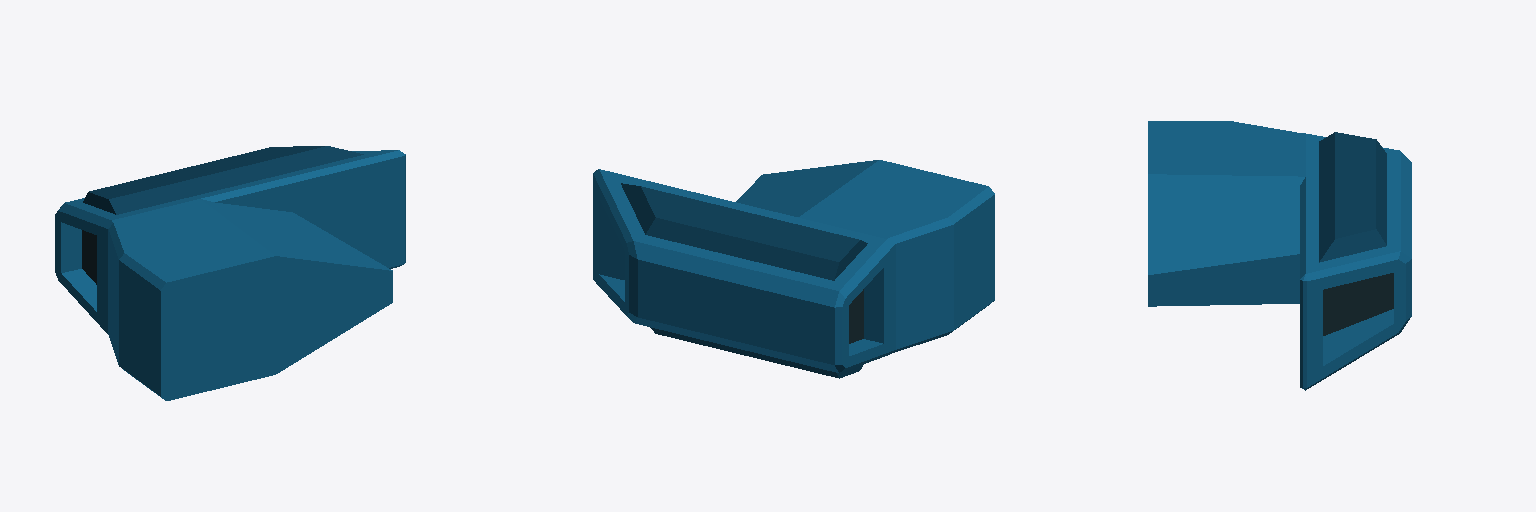
Rendered from Spacestation_Propulsion_Hyperdrive_Sidemount_Small.obj.
3 renders of one model, left to right at view 1: azimuth 30°, elevation 25°; view 2: azimuth 150°, elevation 25°; view 3: azimuth 270°, elevation 25°, orthographic.
Visible parts, largest first — view 1: object2, object4, object3; view 2: object2, object4, object1, object3; view 3: object2, object4, object3.
Boxes of the visible parts, x1=… form: object2: x1=55, y1=150, x2=405, y2=400; object4: x1=83, y1=146, x2=363, y2=214; object3: x1=82, y1=230, x2=96, y2=284; object2: x1=593, y1=160, x2=994, y2=372; object4: x1=621, y1=183, x2=867, y2=280; object1: x1=650, y1=327, x2=863, y2=378; object3: x1=849, y1=289, x2=863, y2=343; object2: x1=1148, y1=121, x2=1411, y2=390; object4: x1=1319, y1=132, x2=1386, y2=262; object3: x1=1323, y1=273, x2=1393, y2=335.
Bounding box in the file's own units: 1.36 × 0.5284 × 0.9609.